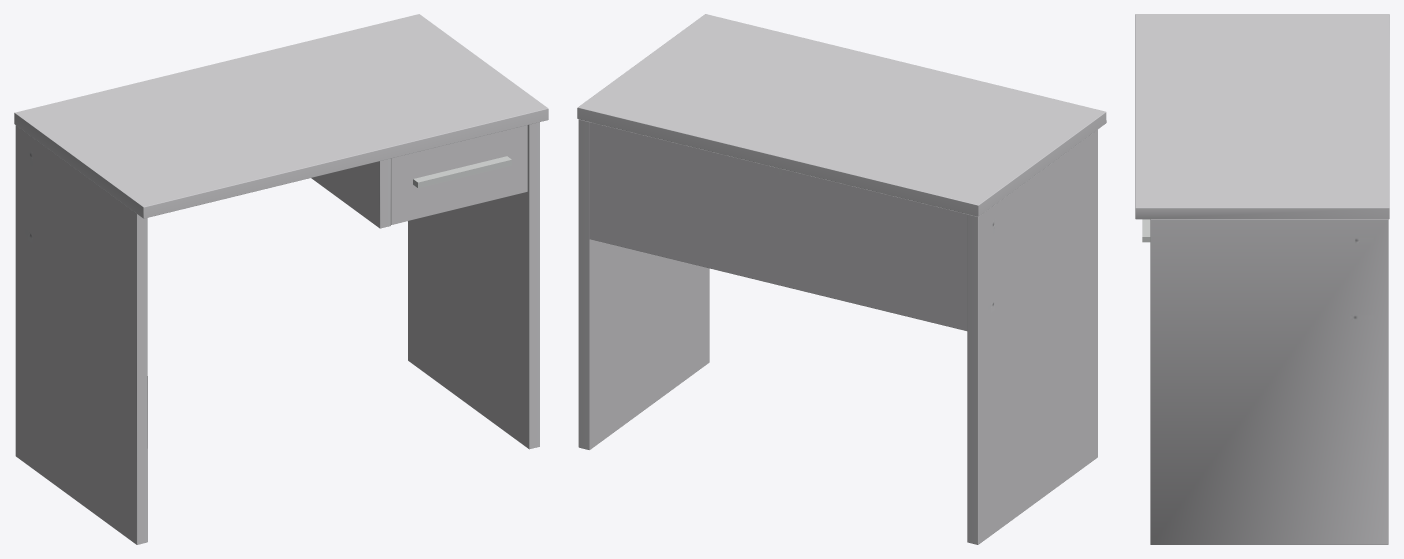
Rendered from B07GFFQZRQ.glb.
3 renders of one model, left to right at view 1: azimuth 30°, elevation 25°; view 2: azimuth 150°, elevation 25°; view 3: azimuth 270°, elevation 25°, orthographic.
Visible parts, largest first — view 1: RootNode; view 2: RootNode; view 3: RootNode.
Boxes of the visible parts, x1,y1,x2,y2 form: RootNode: (14, 14, 548, 544); RootNode: (577, 14, 1106, 544); RootNode: (1135, 14, 1389, 544).
Bounding box in the file's own units: 0.8998 × 0.7294 × 0.4977.
1 material, 1 textured.
